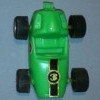verde_sur: (16, 3, 86, 97)
